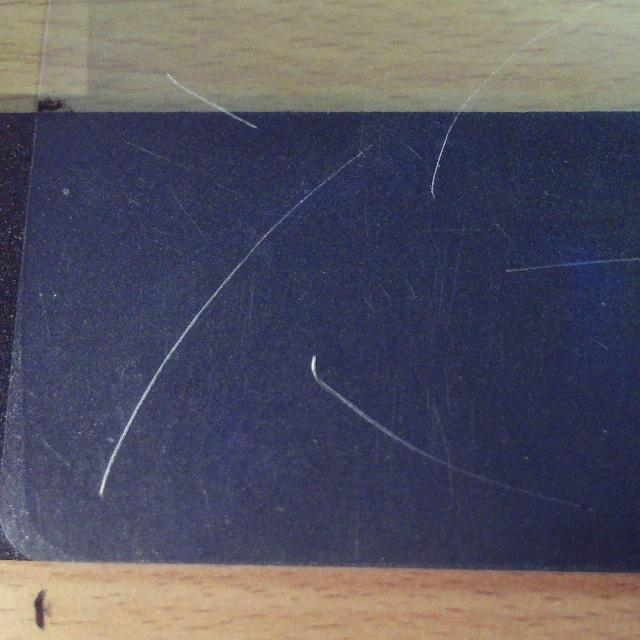defect: (98, 143, 376, 497), (310, 355, 594, 514), (420, 111, 473, 205), (502, 251, 640, 281), (192, 112, 269, 144)
